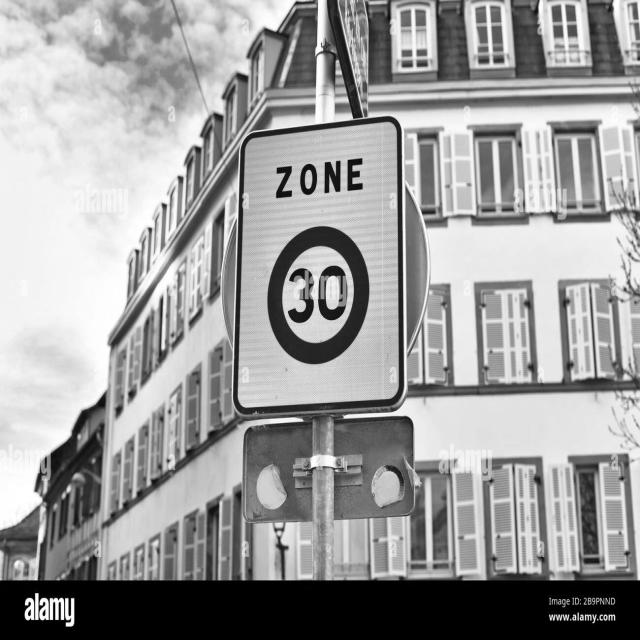speed_30: (238, 126, 407, 413), (267, 227, 369, 366)
